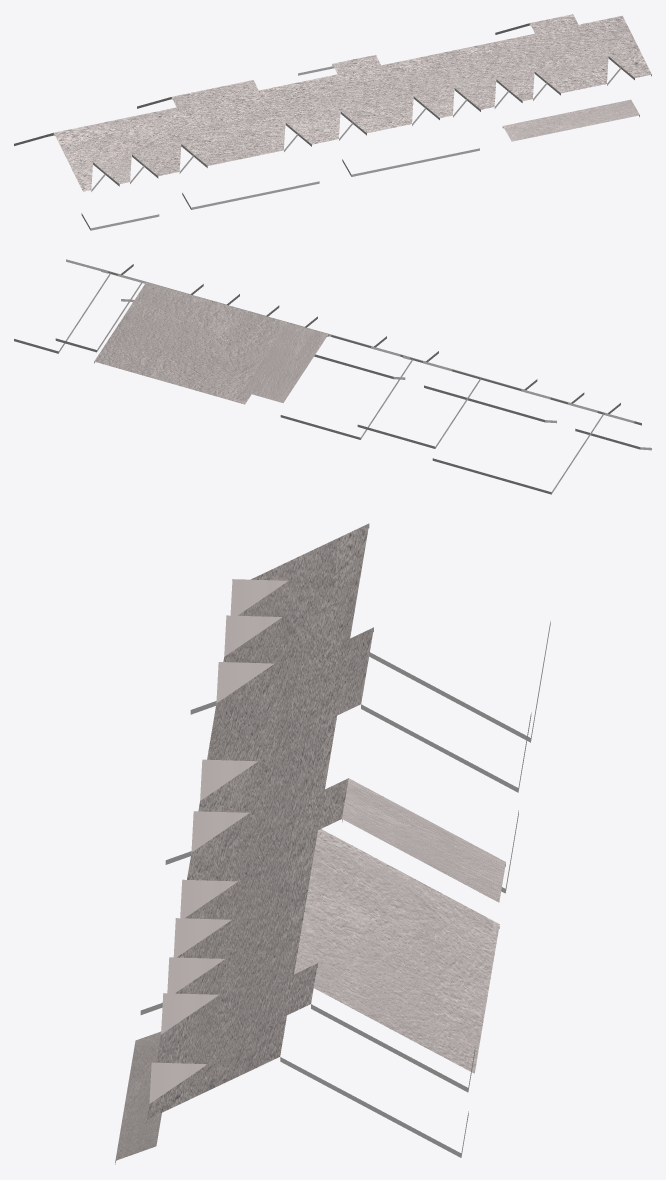
Rendered from sandwich.gltf.
The picture shows the model from 3 angles, top to bottom: view 1: azimuth 30°, elevation 25°; view 2: azimuth 150°, elevation 25°; view 3: azimuth 270°, elevation 25°; orthographic projection. The views are drawn at different scales.
Visible parts, largest first — view 1: Renderer Node; view 2: Renderer Node; view 3: Renderer Node.
Part boxes in pixels (x1,y1,x2,y2): Renderer Node: (14,14,651,230); Renderer Node: (14,259,651,494); Renderer Node: (115,523,550,1164).
Size of the model in its own units: 194 by 23.96 by 65.55.
Materials: 64 (32 with a texture image).
